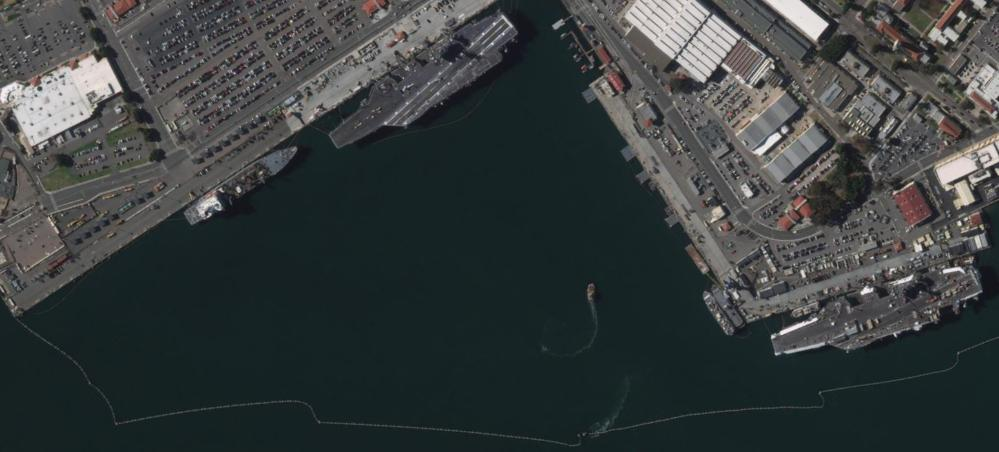submarine: (327, 6, 519, 155)
tender: (184, 144, 300, 229)
